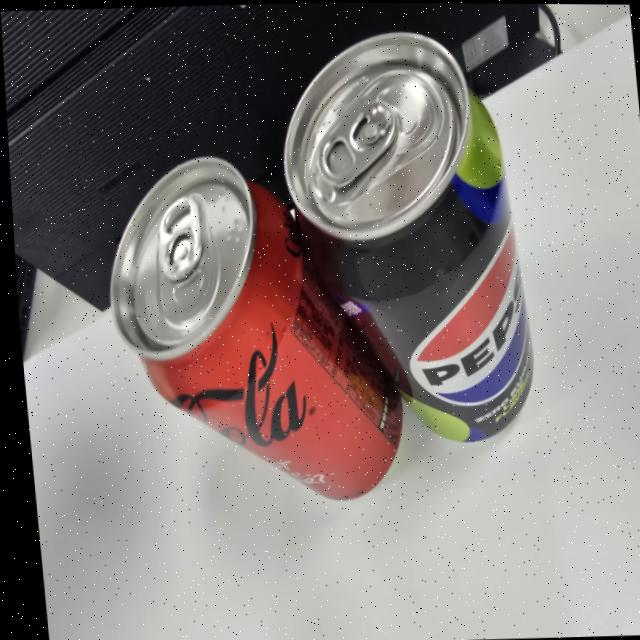can_coke_zero: (112, 154, 403, 505)
can_pepsi_zero: (291, 37, 533, 442)
